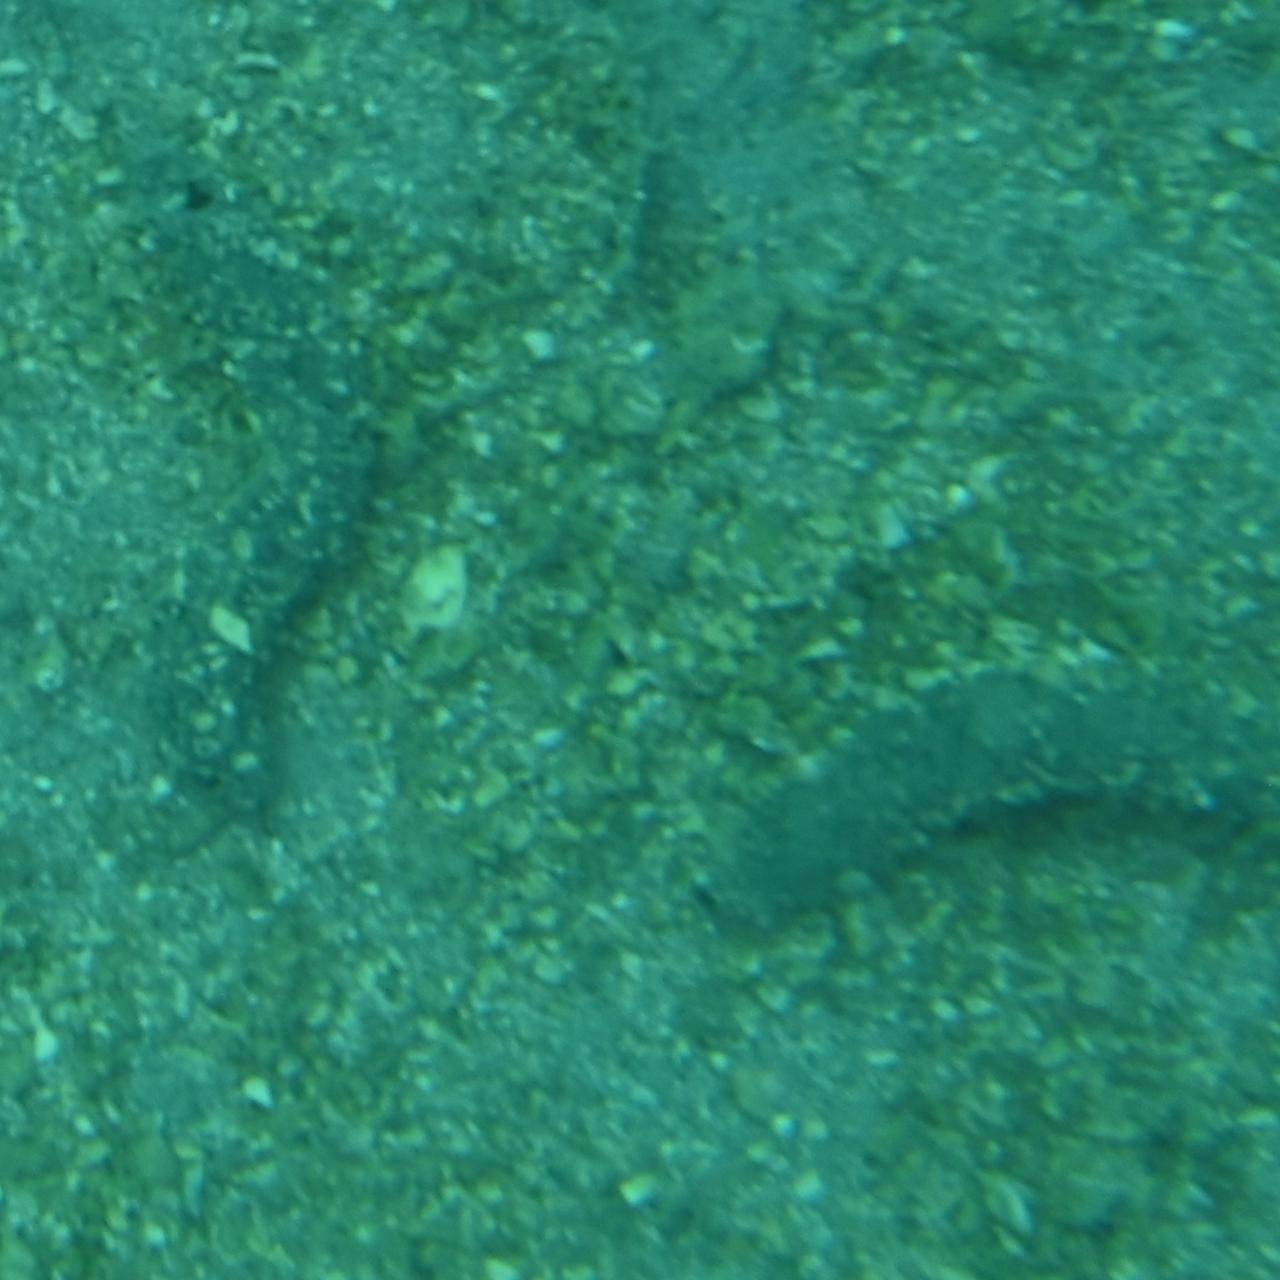Holothuria tubulosa: (102, 117, 399, 843), (693, 653, 1280, 947)
